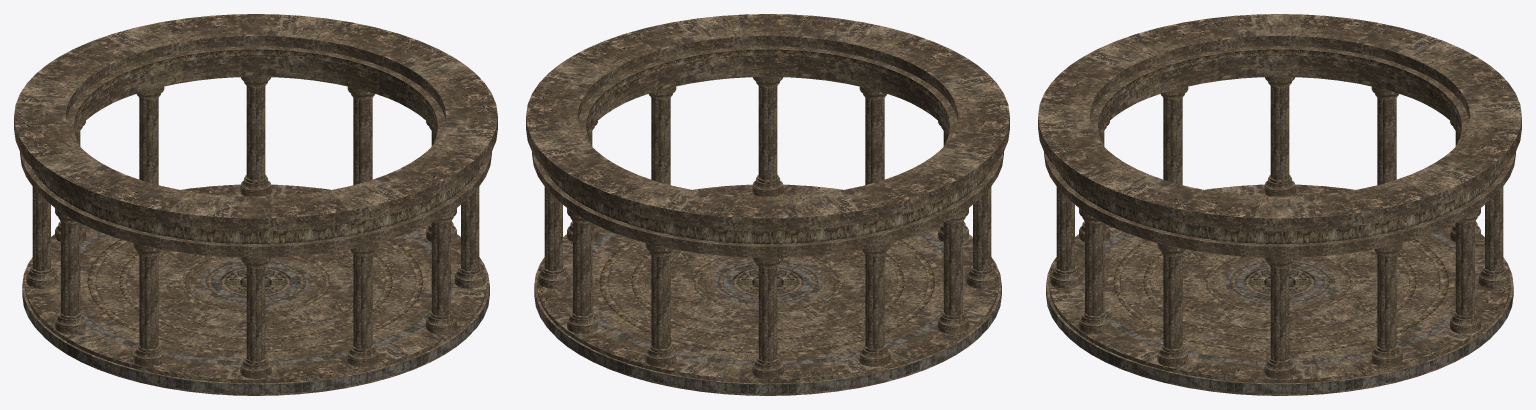
The model's file is materials_5_building_25.fbx.
3 views of the same model, side by side, from view 1: azimuth 30°, elevation 25°; view 2: azimuth 150°, elevation 25°; view 3: azimuth 270°, elevation 25° (orthographic).
Visible parts, largest first — view 1: materials_5_building_25; view 2: materials_5_building_25; view 3: materials_5_building_25.
Part boxes in pixels (x1=…): materials_5_building_25: x1=14, y1=14, x2=497, y2=395; materials_5_building_25: x1=526, y1=14, x2=1009, y2=395; materials_5_building_25: x1=1038, y1=14, x2=1521, y2=395.
Bounding box in the file's own units: 1051 × 436 × 1051.
